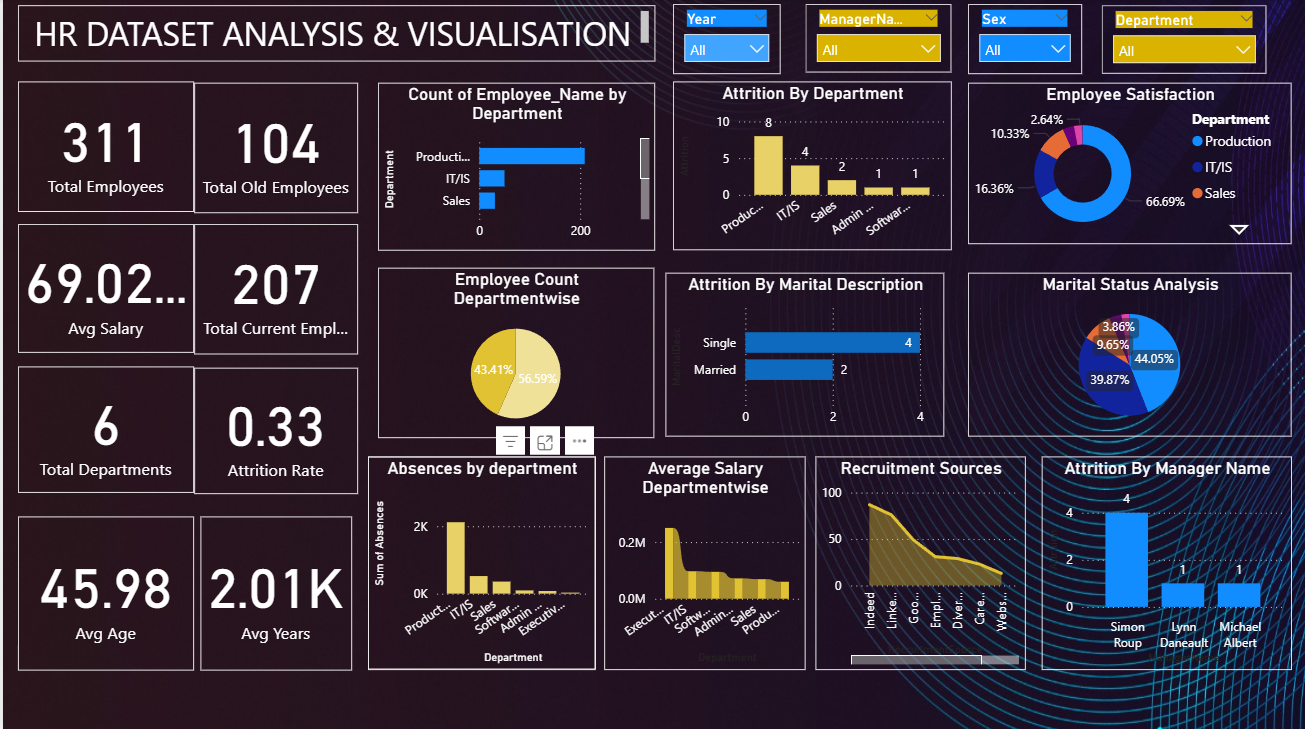

Layout of this report page (visuals, bound fields, positions):
{"tool":"powerbi","page":{"name":"Page 1","canvas":[1280,720],"ordinal":0},"visuals":[{"type":"textbox","box":[14.7,6.1,625.8,55.2],"z":0},{"type":"card","fields":{"Values":["AllEmployees.Total Employees"]},"box":[15.1,81,172.9,127.6],"z":1000},{"type":"card","fields":{"Values":["AllEmployees.Total Old Employees"]},"box":[187.7,82.2,160.7,127.6],"z":2000},{"type":"card","fields":{"Values":["AllEmployees.Avg Salary"]},"box":[14.7,220.9,173,126.4],"z":3000},{"type":"card","fields":{"Values":["AllEmployees.Total Current Employees"]},"box":[187.7,220.9,160.7,127.6],"z":4000},{"type":"card","fields":{"Values":["AllEmployees.Avg Age"]},"box":[14.7,508,173,150.9],"z":5000},{"type":"card","fields":{"Values":["AllEmployees.Avg Years"]},"box":[193.9,508,148.5,150.9],"z":6000},{"type":"card","fields":{"Values":["AllEmployees.Attrition Rate"]},"box":[187.7,362,160.7,123.9],"z":7000},{"type":"card","fields":{"Values":["AllEmployees.Total Departments"]},"box":[14.7,360.7,173,123.9],"z":8000},{"type":"clusteredBarChart","fields":{"Category":["AllEmployees.Department"],"Y":["CountNonNull(AllEmployees.Employee_Name)"]},"box":[368.1,82.2,272.4,164.4],"z":9000},{"type":"pieChart","title":"Employee Count Departmentwise","fields":{"Category":["AllEmployees.Sex"],"Y":["CountNonNull(AllEmployees.Sex)"]},"box":[368.1,263.8,271.2,166.9],"z":10000},{"type":"pieChart","title":"Marital Status Analysis","fields":{"Y":["CountNonNull(AllEmployees.MaritalDesc)"],"Category":["AllEmployees.MaritalDesc"]},"box":[947.2,268.7,317.8,160.7],"z":11000},{"type":"ribbonChart","title":"Average Salary Departmentwise","fields":{"Category":["AllEmployees.Department"],"Y":["AllEmployees.Avg Salary"]},"box":[590.2,449.1,197.5,209.8],"z":12000},{"type":"clusteredColumnChart","title":"Absences by department","fields":{"Category":["AllEmployees.Department"],"Y":["Sum(AllEmployees.Absences)"]},"box":[358.3,449.1,223.3,209.8],"z":13000},{"type":"stackedAreaChart","title":"Recruitment Sources","fields":{"Y":["CountNonNull(AllEmployees.RecruitmentSource)"],"Category":["AllEmployees.RecruitmentSource"]},"box":[797.6,449.1,206.1,209.8],"z":14000},{"type":"donutChart","title":"Employee Satisfaction","fields":{"Y":["Sum(AllEmployees.EmpSatisfaction)"],"Category":["AllEmployees.Department"]},"box":[947.2,82.2,317.8,158.3],"z":15000},{"type":"columnChart","title":"Attrition By Department","fields":{"Category":["AllEmployees.Department"],"Y":["AllEmployees.Attrition"]},"box":[657.7,81,273.6,165.6],"z":16000},{"type":"columnChart","title":"Attrition By Manager Name","fields":{"Y":["AllEmployees.Attrition"],"Category":["AllEmployees.ManagerName"]},"box":[1019.6,449.1,245.4,209.8],"z":17000},{"type":"barChart","title":"Attrition By Marital Description","fields":{"Y":["AllEmployees.Attrition"],"Category":["AllEmployees.MaritalDesc"]},"box":[650.3,268.7,273.6,160.7],"z":18000},{"type":"slicer","title":"Marital Status Analysis","fields":{"Values":["AllEmployees.Department"]},"box":[1078.5,6.1,162,67.5],"z":19000},{"type":"slicer","title":"Marital Status Analysis","fields":{"Values":["AllEmployees.ManagerName"]},"box":[787.7,4.9,143.6,67.5],"z":20000},{"type":"slicer","title":"Marital Status Analysis","fields":{"Values":["AllEmployees.Year"]},"box":[657.7,4.9,105.5,68.7],"z":21000},{"type":"slicer","title":"Marital Status Analysis","fields":{"Values":["AllEmployees.Sex"]},"box":[947.2,4.9,111.7,68.7],"z":22000}]}

Visuals, with their boxes in screenshot pixels (x1, y1, x2, y2), scaled from the page's 1280x720 canvas onto the 1305x729 screenshot:
textbox: [15,6,653,62]
card - AllEmployees.Total Employees: [15,82,192,211]
card - AllEmployees.Total Old Employees: [191,83,355,212]
card - AllEmployees.Avg Salary: [15,224,191,352]
card - AllEmployees.Total Current Employees: [191,224,355,353]
card - AllEmployees.Avg Age: [15,514,191,667]
card - AllEmployees.Avg Years: [198,514,349,667]
card - AllEmployees.Attrition Rate: [191,367,355,492]
card - AllEmployees.Total Departments: [15,365,191,491]
clusteredBarChart - AllEmployees.Department x CountNonNull(AllEmployees.Employee_Name): [375,83,653,250]
"Employee Count Departmentwise" pieChart: [375,267,652,436]
"Marital Status Analysis" pieChart: [966,272,1290,435]
"Average Salary Departmentwise" ribbonChart: [602,455,803,667]
"Absences by department" clusteredColumnChart: [365,455,593,667]
"Recruitment Sources" stackedAreaChart: [813,455,1023,667]
"Employee Satisfaction" donutChart: [966,83,1290,244]
"Attrition By Department" columnChart: [671,82,949,250]
"Attrition By Manager Name" columnChart: [1040,455,1290,667]
"Attrition By Marital Description" barChart: [663,272,942,435]
"Marital Status Analysis" slicer: [1100,6,1265,75]
"Marital Status Analysis" slicer: [803,5,949,73]
"Marital Status Analysis" slicer: [671,5,778,75]
"Marital Status Analysis" slicer: [966,5,1080,75]
